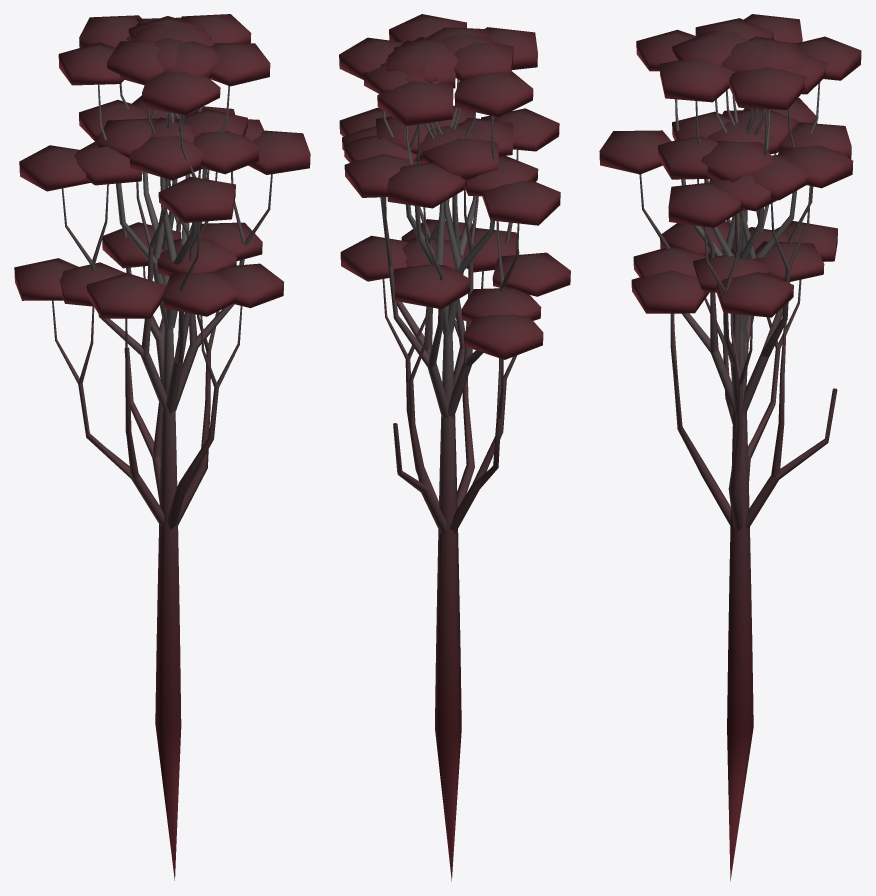
The model's file is plants-trees-palms-tiered-red-tree_v5.fbx.
3 views of the same model, side by side, from view 1: azimuth 30°, elevation 25°; view 2: azimuth 150°, elevation 25°; view 3: azimuth 270°, elevation 25° (orthographic).
Parts seen in each view (by area): view 1: Tiered Red Tree_v5; view 2: Tiered Red Tree_v5; view 3: Tiered Red Tree_v5.
Boxes of the visible parts, x1,y1,x2,y2 form: Tiered Red Tree_v5: (14, 14, 310, 880); Tiered Red Tree_v5: (339, 14, 570, 881); Tiered Red Tree_v5: (599, 14, 861, 881).
Size of the model in its own units: 1.8 by 6 by 1.69.
